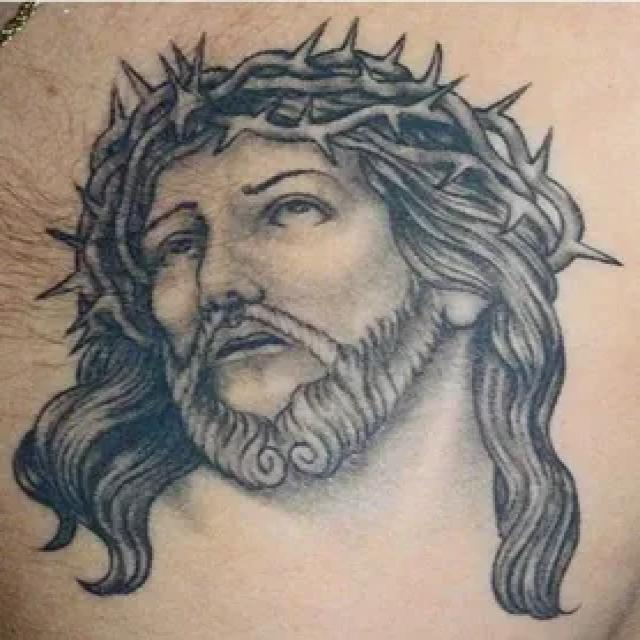crown: (48, 36, 579, 235)
